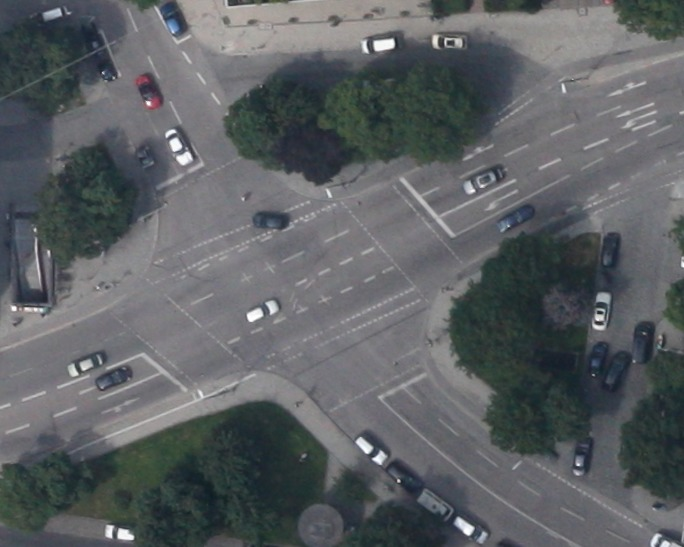car: (383, 458, 422, 496), (414, 487, 454, 523), (460, 164, 504, 196), (599, 349, 631, 393), (161, 125, 193, 167), (494, 202, 535, 234), (451, 512, 489, 545), (352, 433, 388, 466), (28, 1, 69, 29), (133, 72, 161, 111), (157, 1, 187, 37), (93, 364, 132, 391), (630, 321, 654, 364), (65, 351, 103, 378), (244, 298, 279, 324), (590, 290, 611, 332), (570, 435, 591, 476), (585, 342, 607, 378), (599, 230, 620, 267), (93, 53, 118, 83), (360, 35, 397, 54), (251, 210, 287, 229), (102, 522, 138, 541), (431, 32, 467, 50), (135, 144, 155, 169)
